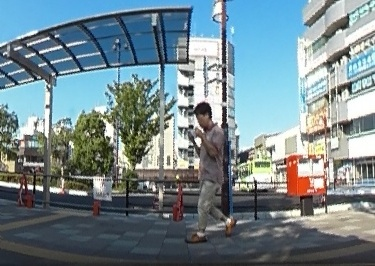person: (189, 99, 236, 243)
